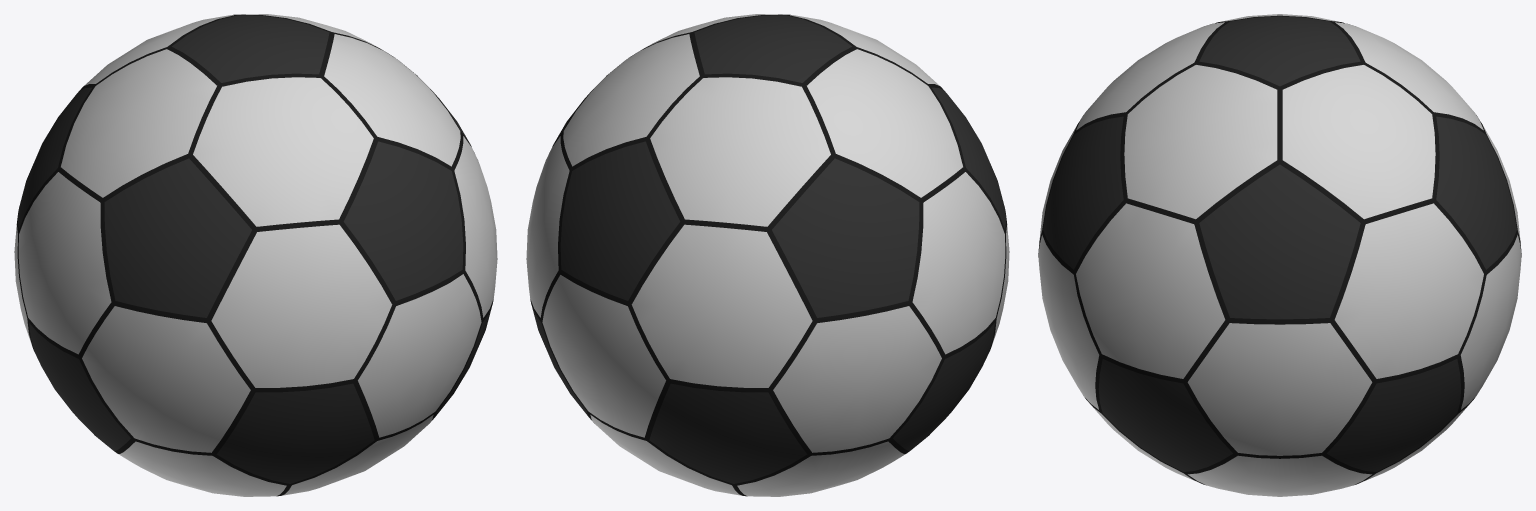
The model's file is Football_01.fbx.
The picture shows the model from 3 angles, left to right: view 1: azimuth 30°, elevation 25°; view 2: azimuth 150°, elevation 25°; view 3: azimuth 270°, elevation 25°; orthographic projection.
Parts seen in each view (by area): view 1: Football_01; view 2: Football_01; view 3: Football_01.
Part boxes in pixels (box(x1,y1,x2,y2)): Football_01: box(14, 14, 497, 496); Football_01: box(526, 14, 1009, 496); Football_01: box(1038, 14, 1521, 496).
Size of the model in its own units: 0.334 by 0.334 by 0.334.
